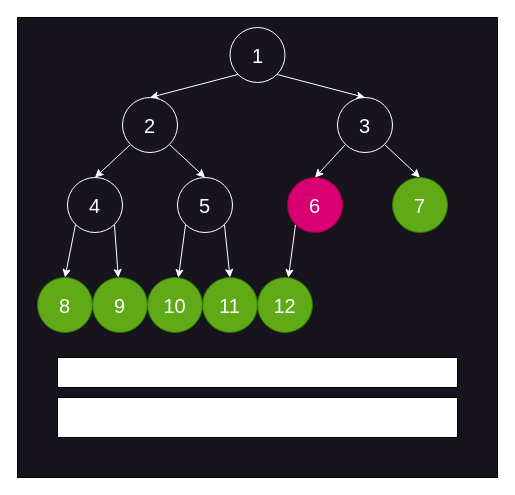
This 515x495 diagram has some shape labels left out. Here are the shapes that lost their labels. From the top down, the centre of each, then its label:
At (x=257, y=372): "1.如果遇到有右节点，无左节点的情况，直接返回false".
At (x=257, y=417): "2.遇到第一个有左节点( 例如上面节点6 )，无右节点的父节点，那么后续的节点将都是叶子节点（没有子节点），否则就返回false".
